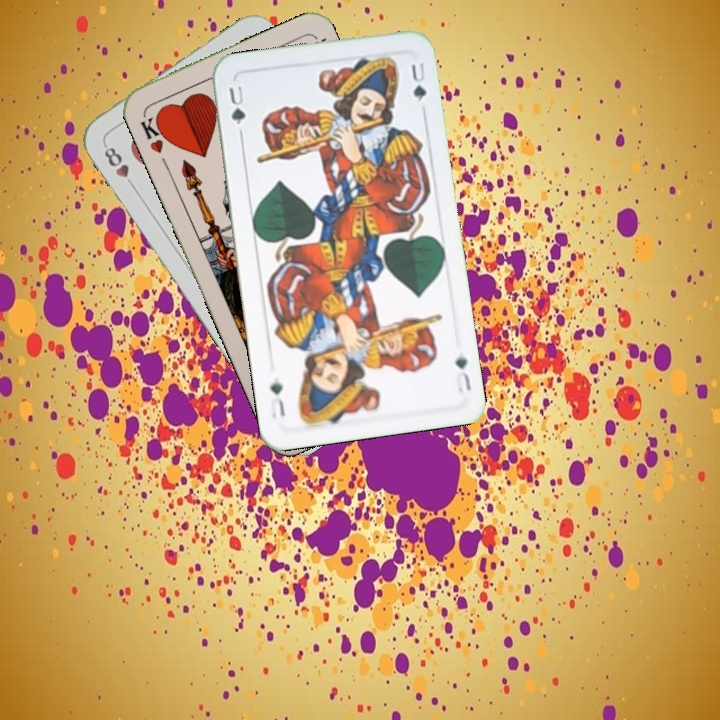GU: (224, 80, 248, 127), (451, 351, 474, 396)
H8: (100, 140, 139, 192)
HK: (136, 110, 172, 156)
